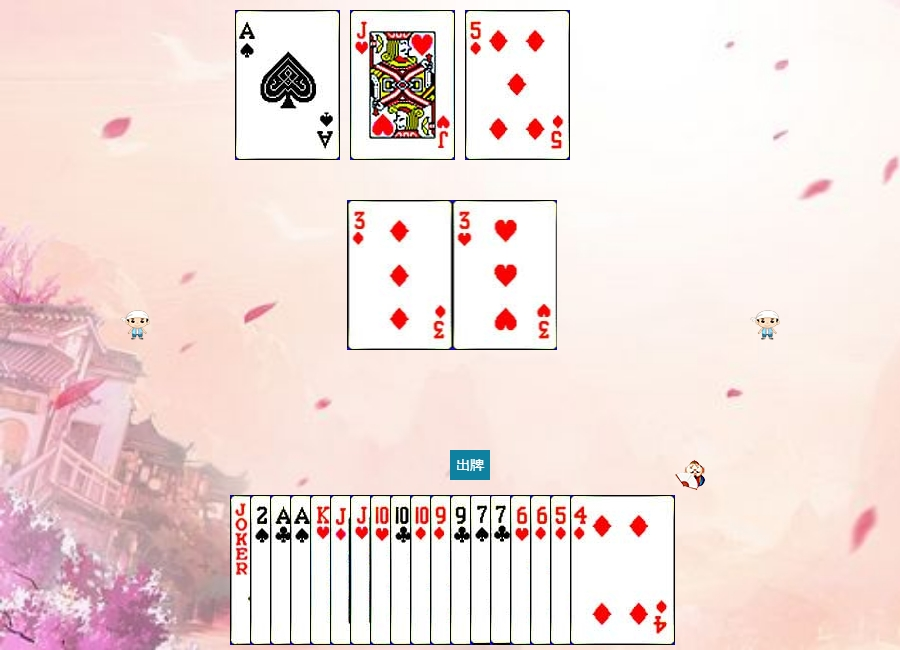10~1: (410, 495, 515, 645)
10~2: (390, 495, 495, 645)
10~3: (370, 495, 475, 645)
11~1: (330, 495, 435, 645)
11~3: (350, 10, 455, 160), (350, 495, 455, 645)
13~3: (310, 495, 415, 645)
14~2: (270, 495, 375, 645)
14~4: (235, 10, 340, 160), (290, 495, 395, 645)
15~4: (250, 495, 355, 645)
18~4: (230, 495, 335, 645)
3~1: (348, 200, 453, 350)
3~3: (453, 200, 558, 350)
4~1: (570, 495, 675, 645)
5~1: (465, 10, 570, 160), (550, 495, 655, 645)
6~1: (530, 495, 635, 645)
6~3: (510, 495, 615, 645)
7~2: (490, 495, 595, 645)
7~4: (470, 495, 575, 645)
9~1: (430, 495, 535, 645)
9~2: (450, 495, 555, 645)
